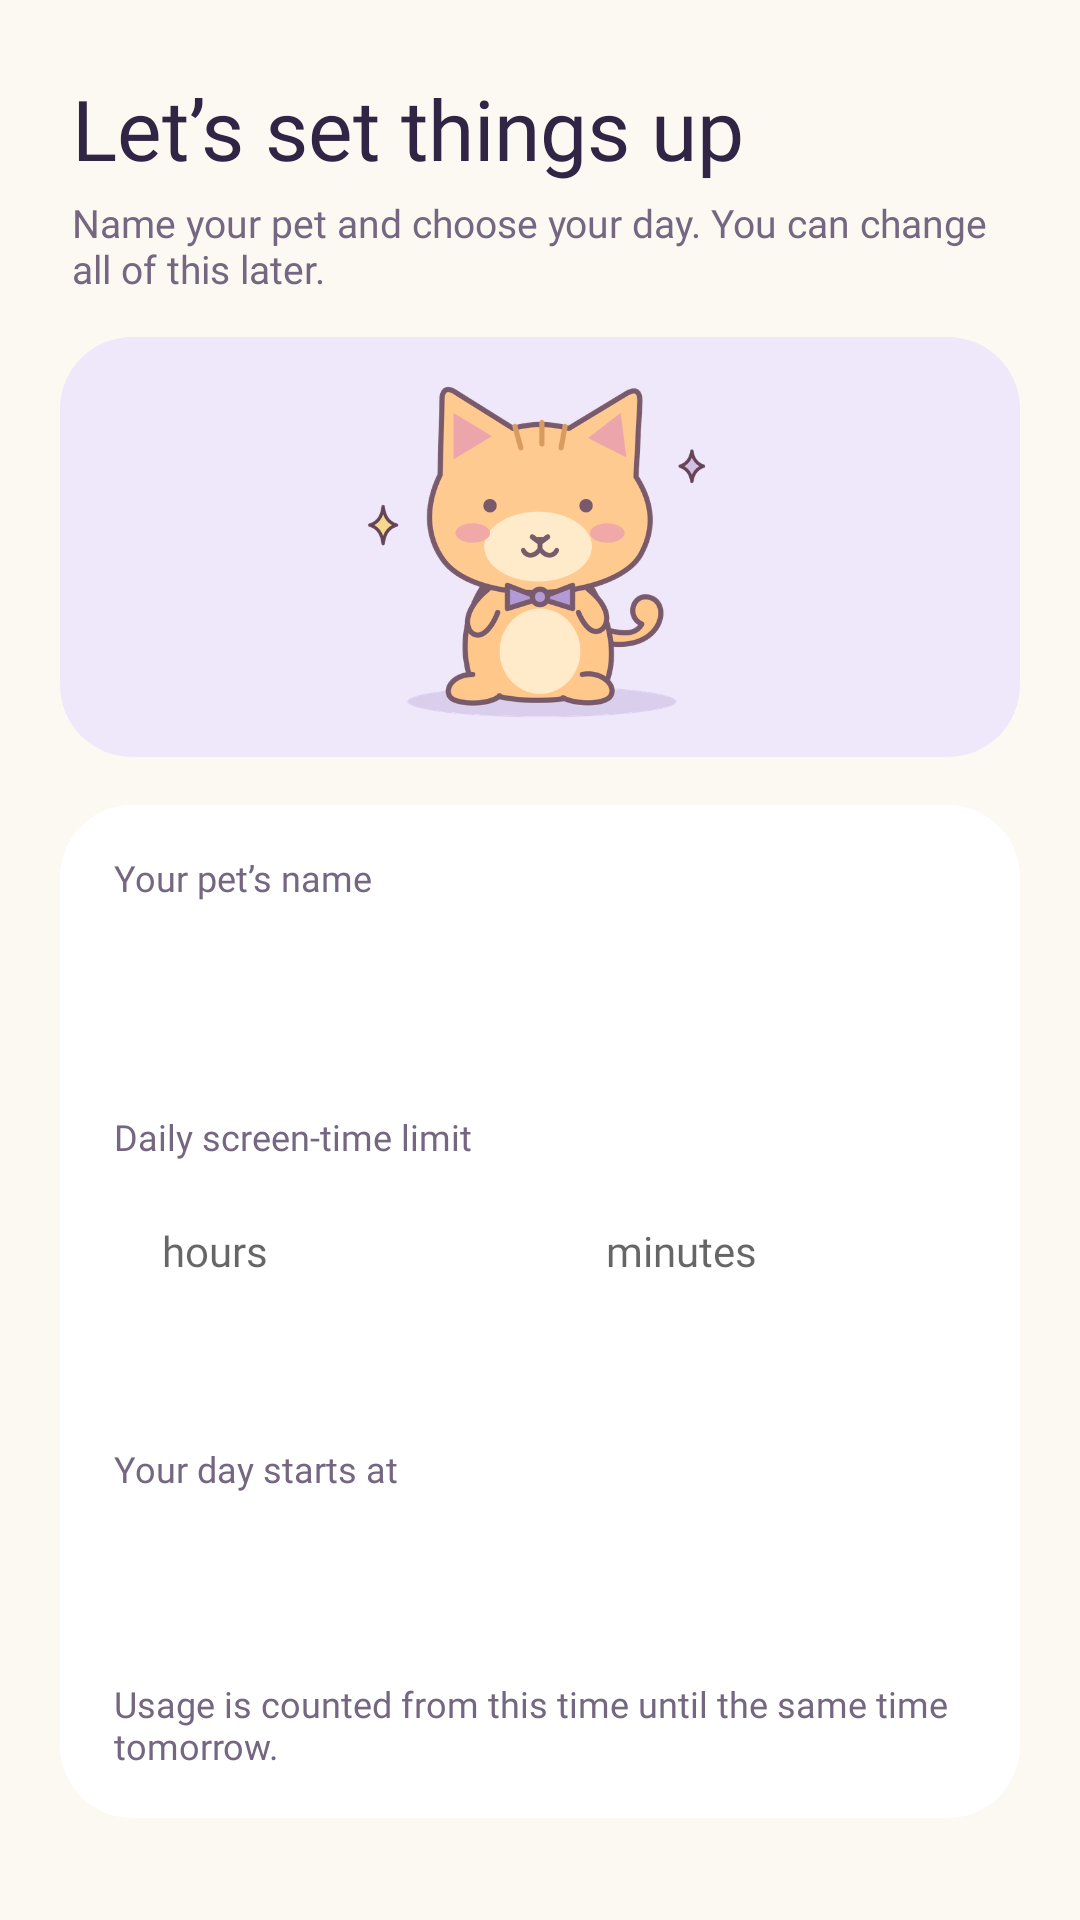

Icon bounding boxes for this 1080px x 1920px phone screenshot, format (x1, y1, x2, y2):
pet healthy: (368, 387, 705, 716)
